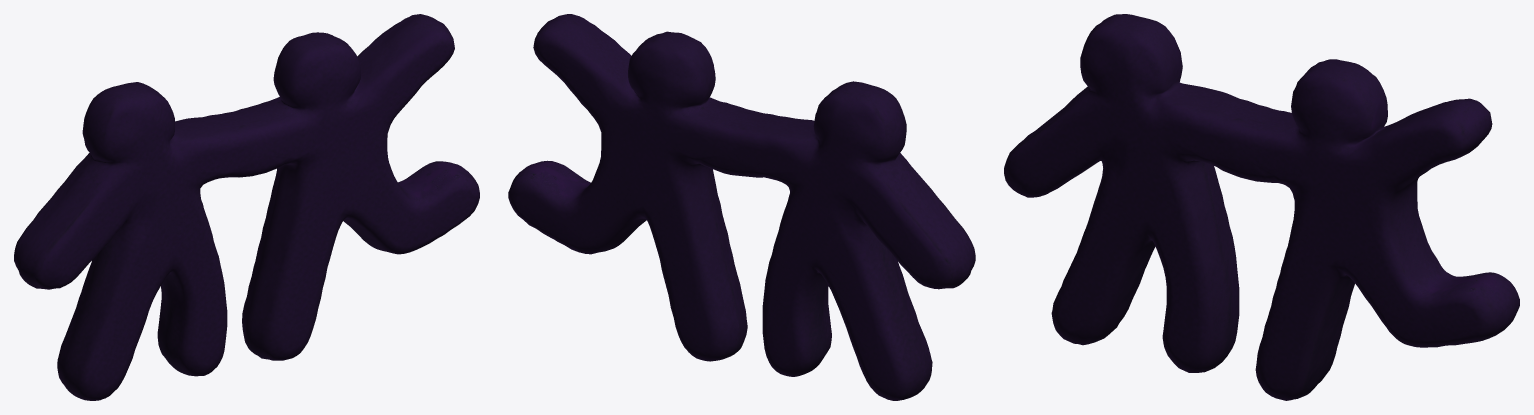
File: pals-mesh-nat-amethyst.glb
The picture shows the model from 3 angles, left to right: view 1: azimuth 30°, elevation 25°; view 2: azimuth 150°, elevation 25°; view 3: azimuth 330°, elevation 25°; orthographic projection. The views are drawn at different scales.
Bounding box in the file's own units: 1.91 × 1.24 × 0.2348.
Materials: 1 (1 with a texture image).
